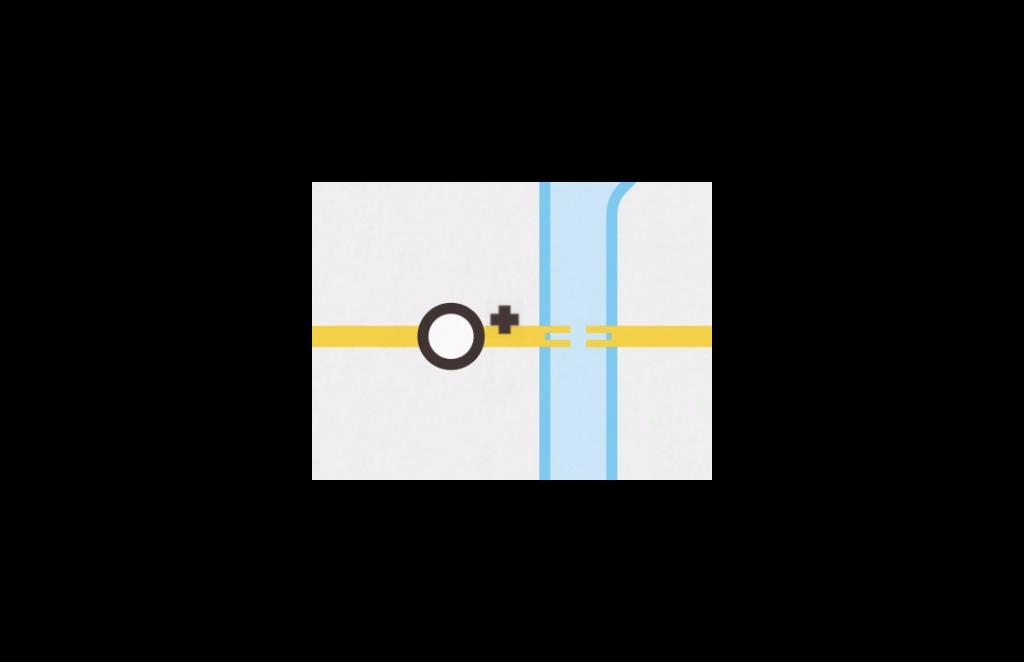connected_station: (407, 287, 505, 374)
tunnel: (505, 282, 639, 380)
